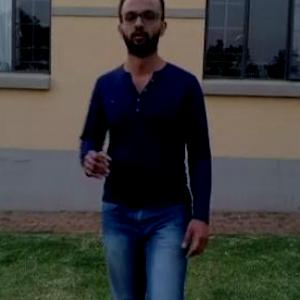follow: (92, 0, 221, 299)
